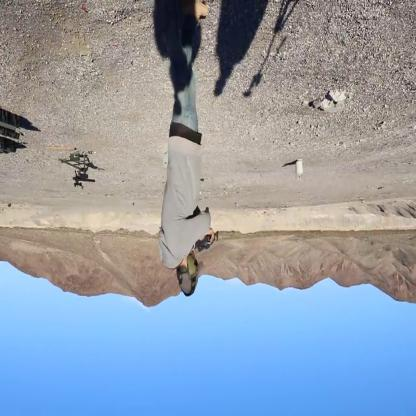long weapon: (182, 200, 225, 254), (72, 152, 112, 196)
